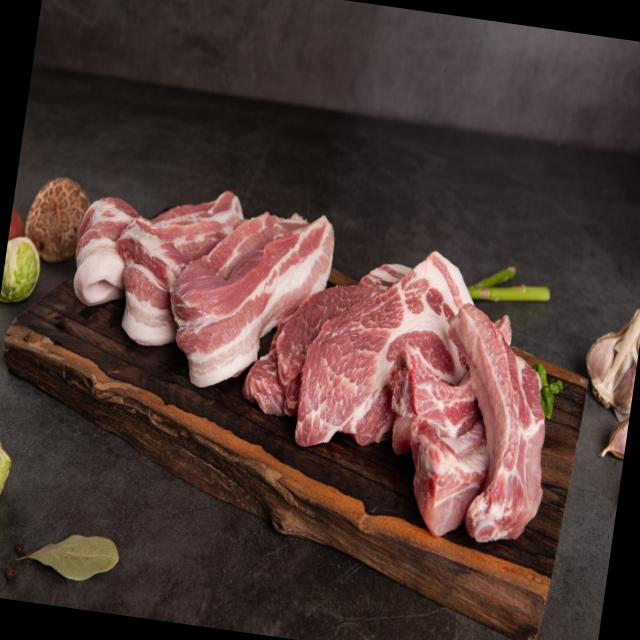pork: (41, 155, 585, 567), (158, 194, 338, 402), (69, 186, 149, 313)
